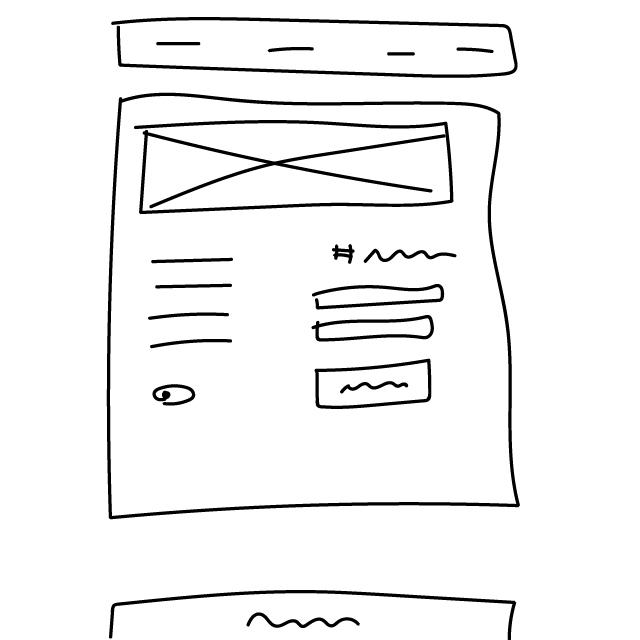button: (313, 358, 436, 412)
checkbox: (152, 382, 199, 410)
container: (102, 87, 540, 532)
footer: (96, 581, 524, 640)
frame: (133, 113, 466, 223)
heading: (331, 236, 461, 272)
input: (314, 280, 449, 312), (312, 317, 439, 344)
nav: (109, 12, 523, 85)
text: (146, 252, 239, 356)
